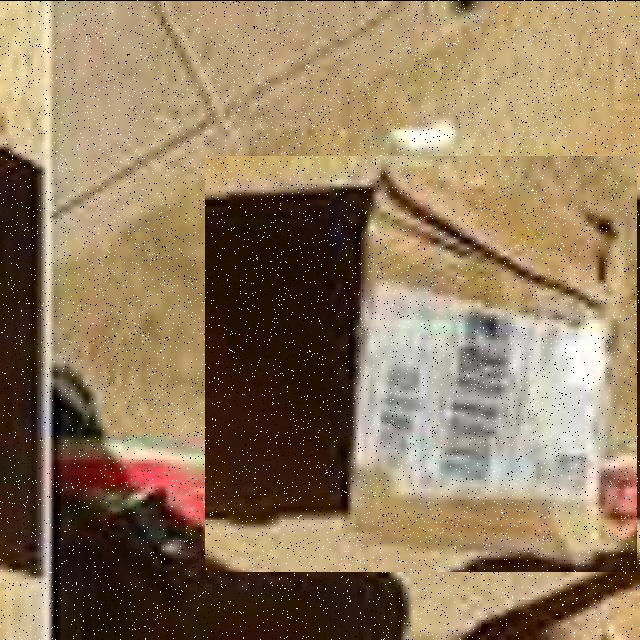defect: (205, 155, 637, 571)
